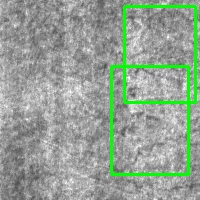crazing: (111, 66, 188, 174), (124, 6, 195, 102)
